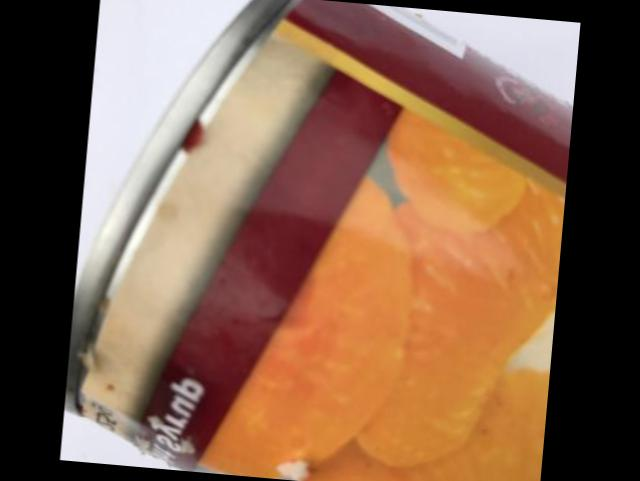metal: (65, 0, 571, 481)
